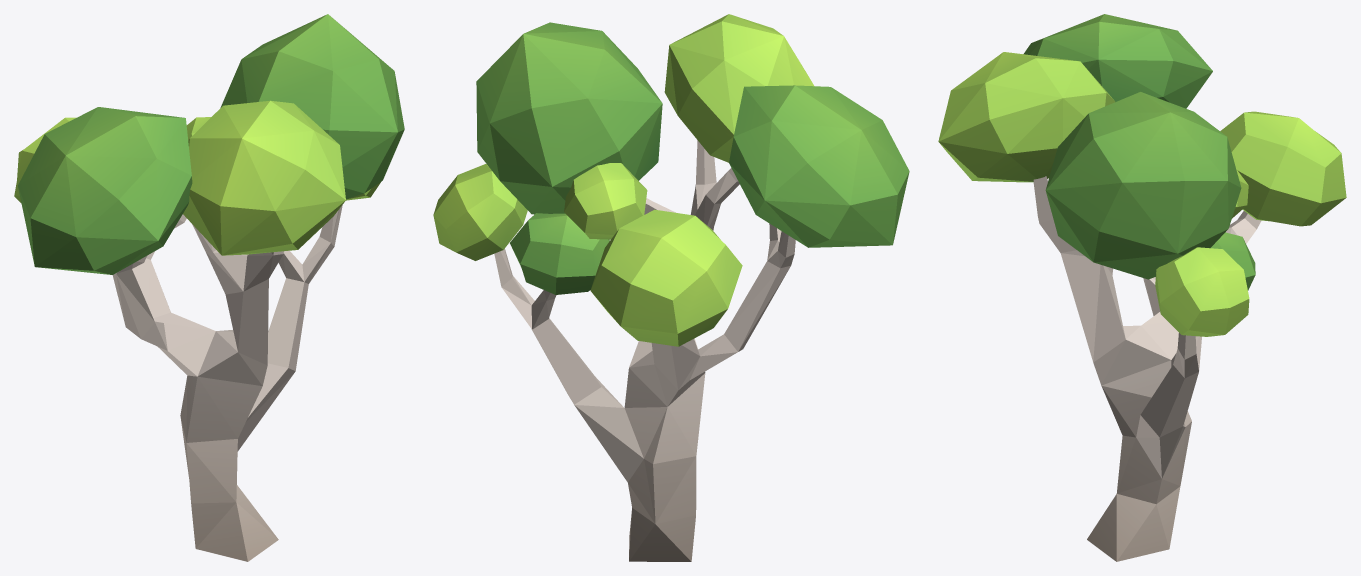
File: GreenTree3.fbx
3 views of the same model, side by side, from view 1: azimuth 30°, elevation 25°; view 2: azimuth 150°, elevation 25°; view 3: azimuth 270°, elevation 25° (orthographic). The views are drawn at different scales.
Parts seen in each view (by area): view 1: GreenTree3; view 2: GreenTree3; view 3: GreenTree3.
Boxes of the visible parts, left/top/right/bottom form: GreenTree3: left=14, top=14, right=404, bottom=561; GreenTree3: left=433, top=14, right=909, bottom=561; GreenTree3: left=938, top=14, right=1346, bottom=561.
Size of the model in its own units: 384 by 450 by 342.
